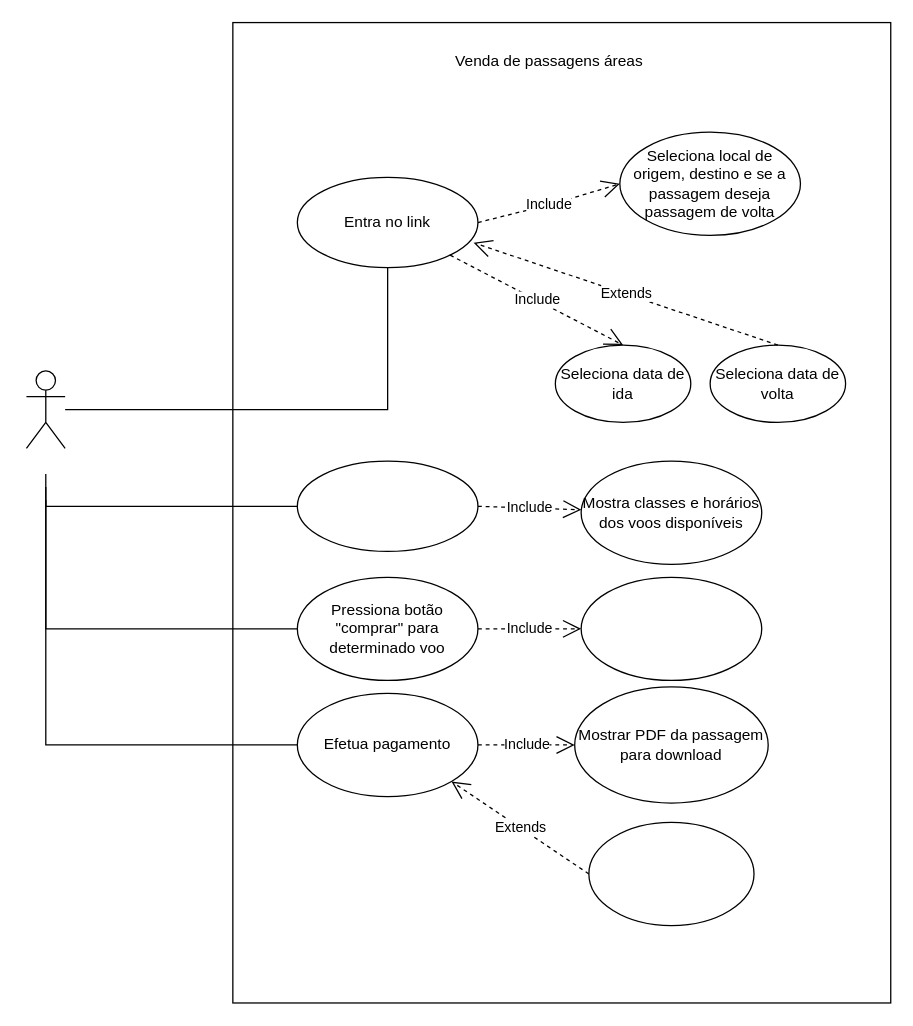
Some shapes in this 913 by 1026 pixel diagram are drawn without their labels. Each missing label, with the centre of its shape:
Cliente: pixel 45 409
Mostra poltronas disponíveis: pixel 671 628
Mostrar erro no pagamento: pixel 671 873
Pressiona botão "consultar": pixel 387 505
